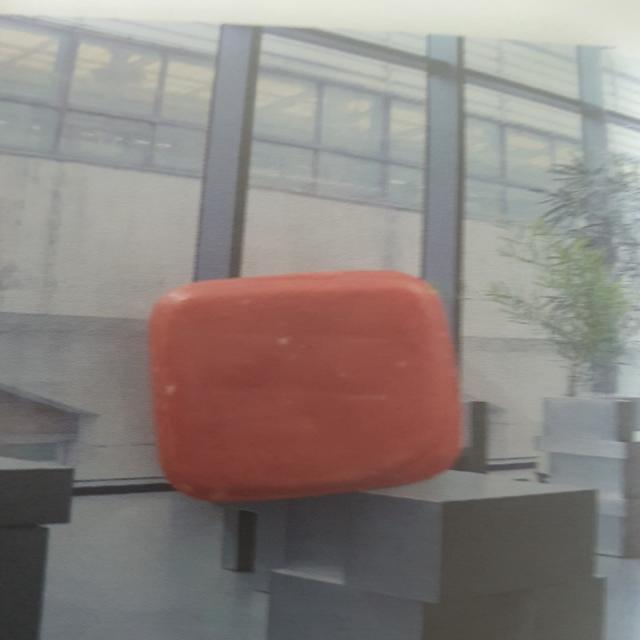pill: (140, 260, 482, 510)
